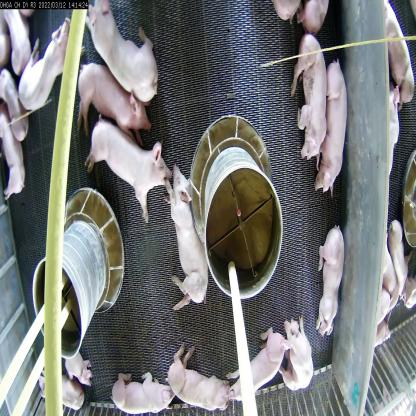Pig: (82, 118, 169, 227), (80, 0, 159, 99), (165, 170, 209, 316), (68, 52, 144, 136), (290, 32, 334, 156), (224, 329, 287, 415), (21, 24, 78, 114), (317, 59, 351, 197), (170, 347, 237, 415), (313, 225, 349, 345), (112, 363, 175, 415), (0, 105, 24, 215), (36, 359, 83, 415), (283, 321, 316, 396), (2, 66, 26, 137), (61, 336, 94, 384)
